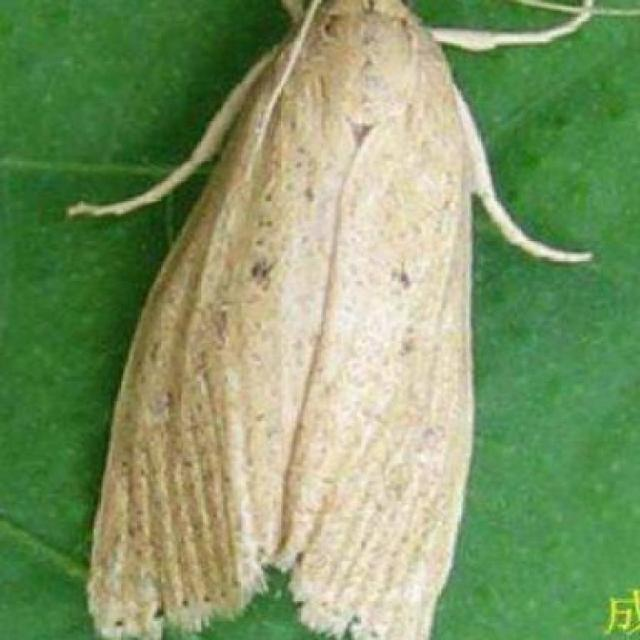stem-borer: (76, 0, 516, 640)
